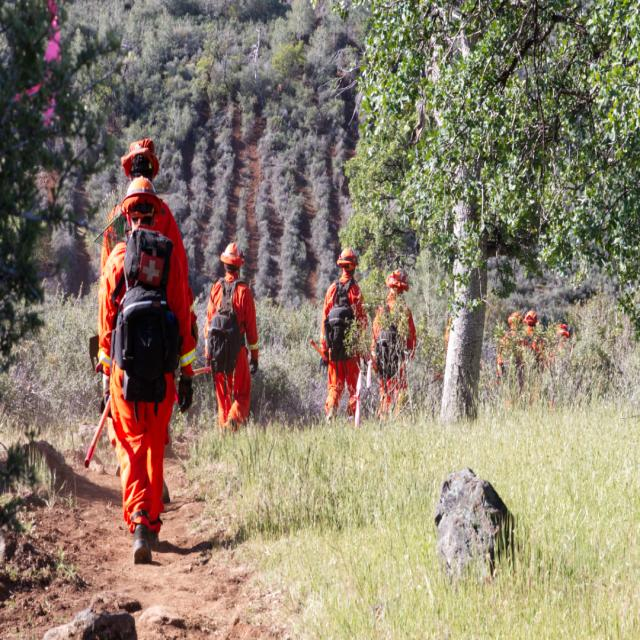helmet: (111, 136, 166, 169), (117, 180, 168, 214), (223, 237, 248, 271), (339, 241, 359, 272), (390, 264, 406, 289), (508, 308, 523, 330), (556, 323, 571, 336), (528, 308, 538, 327)
